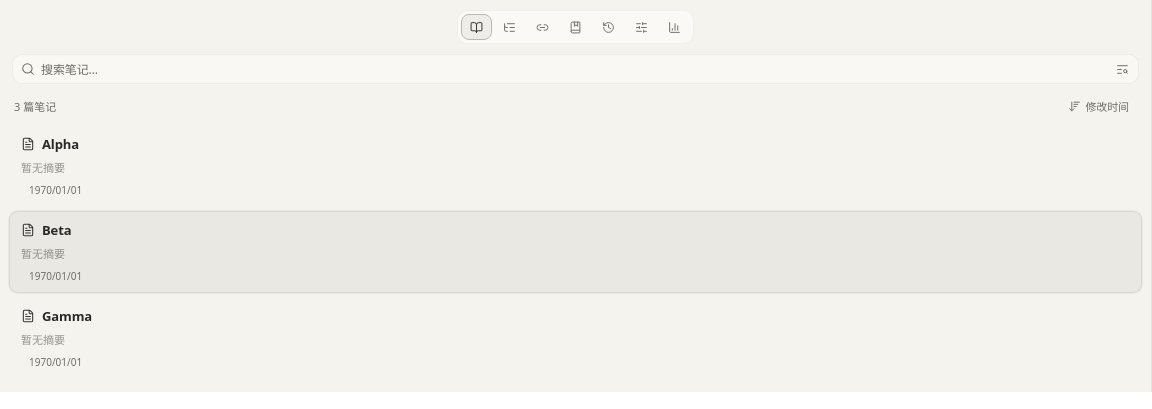
Test: Note card context menu › rename › flushes pending edits first, moves the right-clicked note, and retargets its open tab
The image size is (1152, 409).
Right-click the list item with class "note-card" showing "Beta 暂无摘要 1970/01/01" at (576, 252), box [8, 210, 1143, 294]
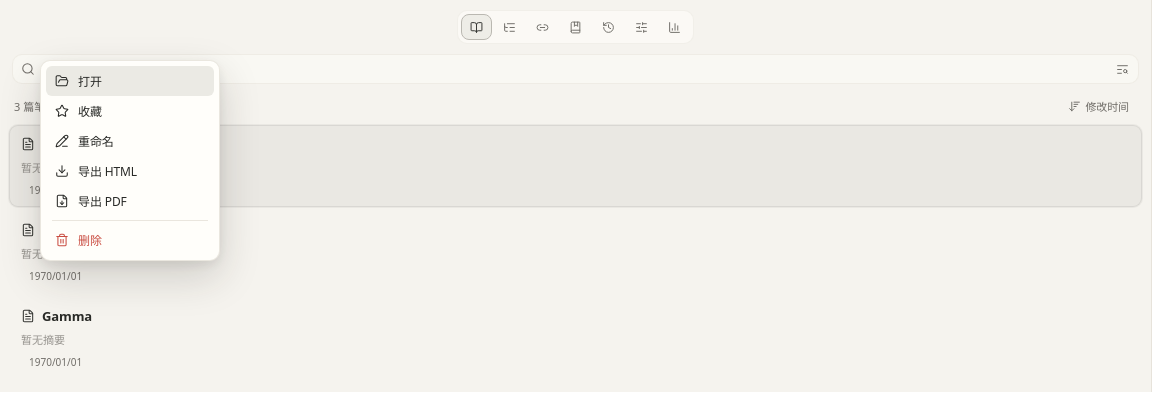
Expected: the menu item with class "ctx-menu-item" showing "重命名" is shown
Click the menu item with class "ctx-menu-item" showing "重命名". click: (130, 141)
box: [46, 126, 214, 156]
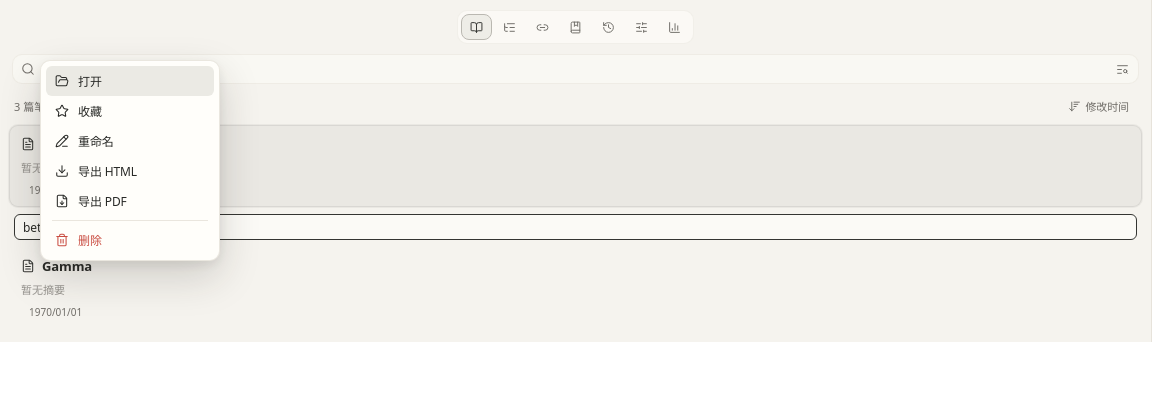
Expected: the field with class "nl-rename-input" holds "beta.md"
Expected: the field with class "nl-rename-input" is shown
Replace the text in the field with class "nl-rename-input" with "beta-renamed.md". click: (576, 227)
box: [14, 214, 1137, 240]
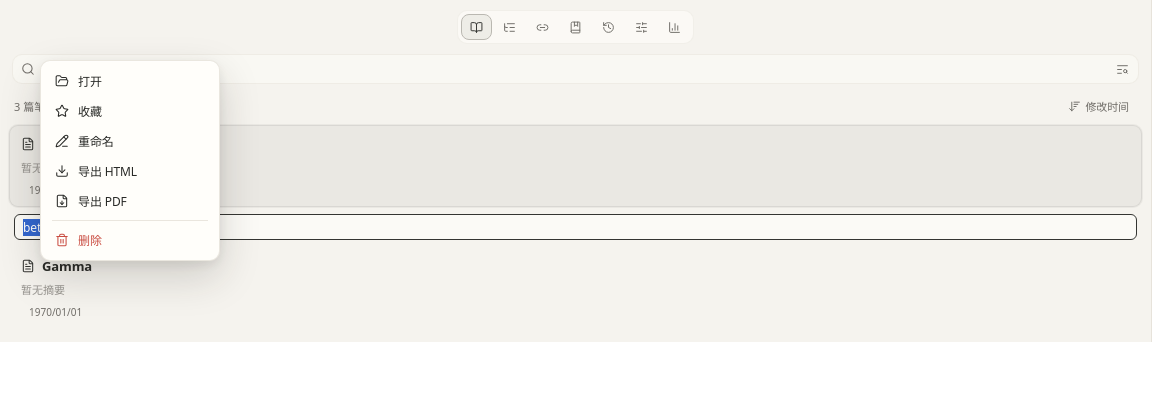
Press Enter in the field with class "nl-rename-input", box [14, 214, 1137, 240]
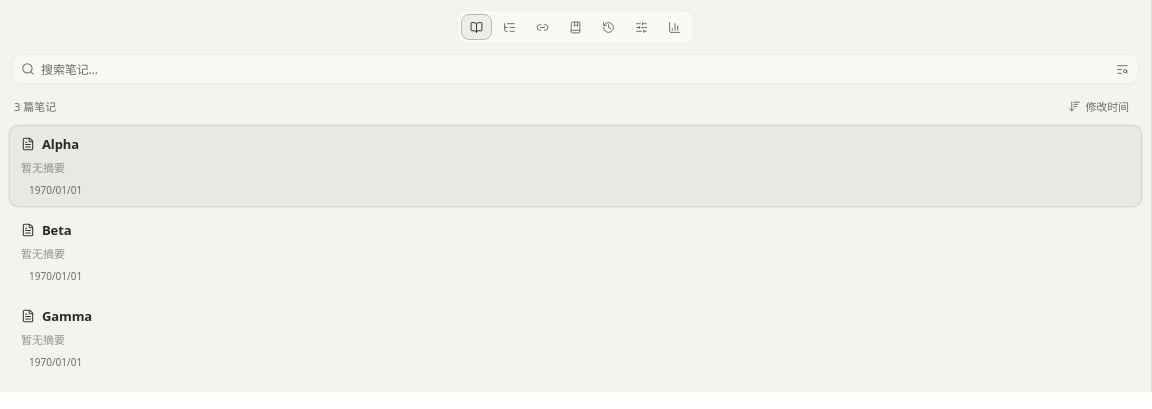
Expected: the field with class "nl-rename-input" is gone
